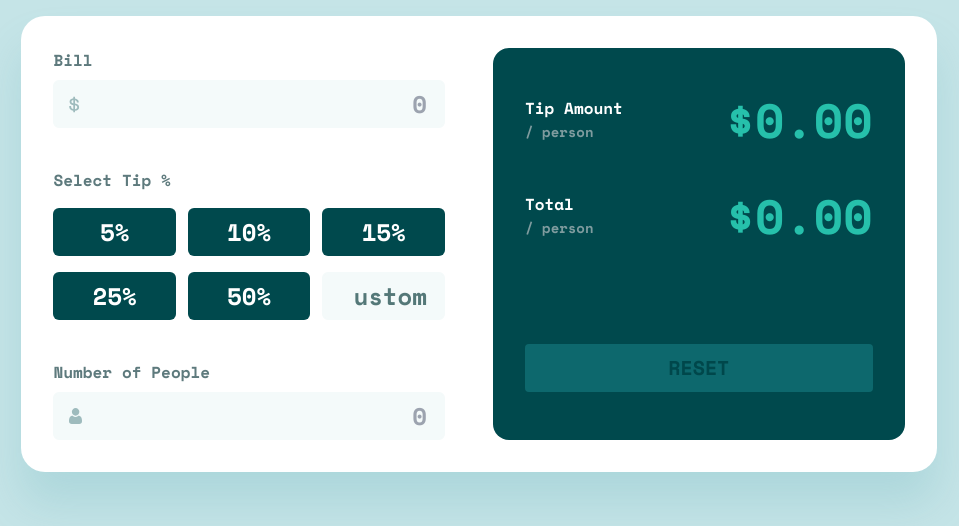
Test: TipCalculator › should calculate tip amount correctly
Type "420" into the number field labelled "Bill".
click(249, 104); type("420")  # box [53, 80, 445, 128]
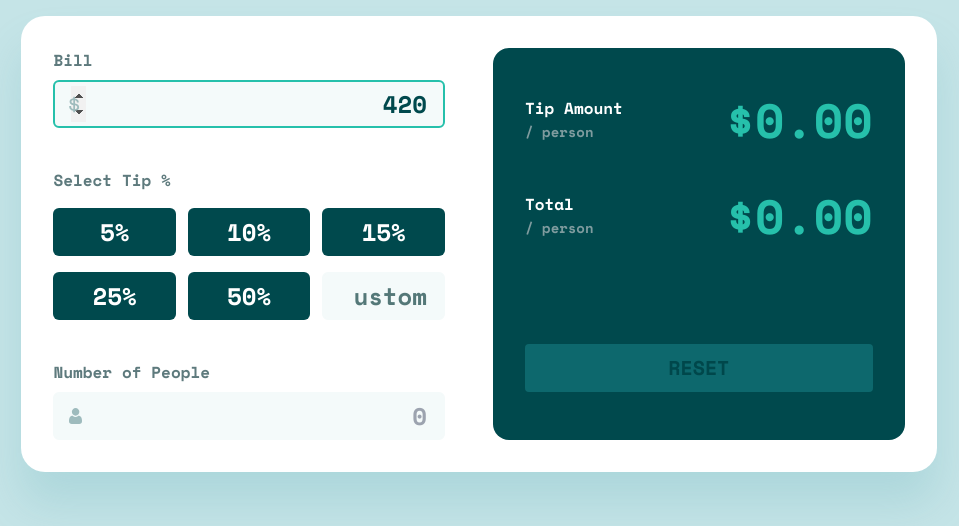
Type "4" into the number field labelled "Number of People".
click(249, 416); type("4")  # box [53, 392, 445, 440]
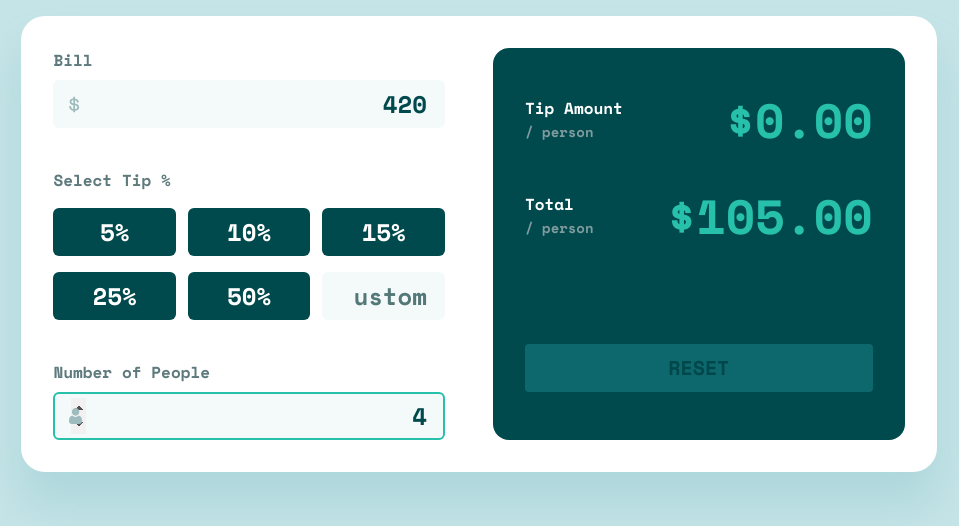
Click the button "15%".
click(384, 232)  # box [322, 208, 445, 256]
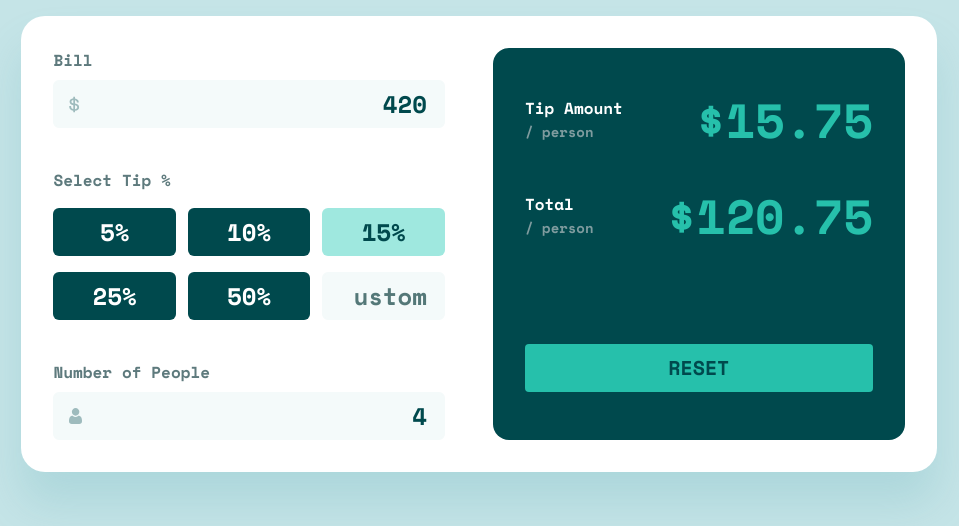
Now the text "$15.75" is shown, box [696, 96, 873, 144]
